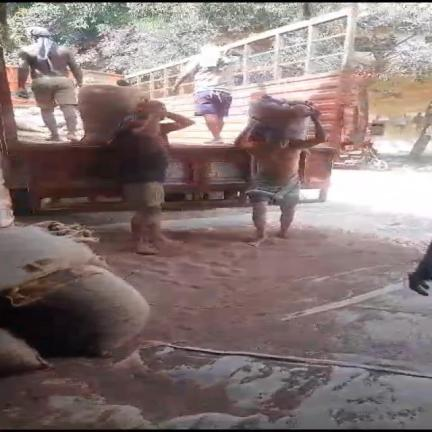Zone-Counting: (235, 94, 325, 244)
